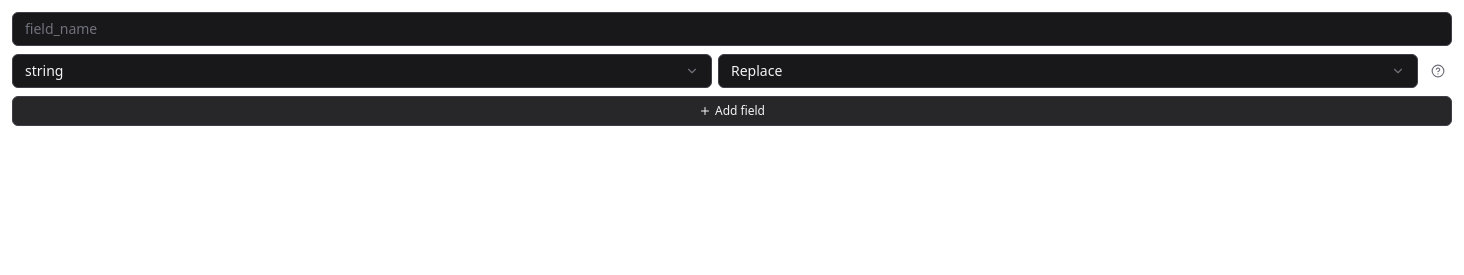
Test case: AddFieldForm smart defaults › auto-sets reducer to merge when type is object
This screenshot has width=1464, height=275.
Click the dropdown named "Field type".
click(44, 70)  # box 12,54 -> 712,88
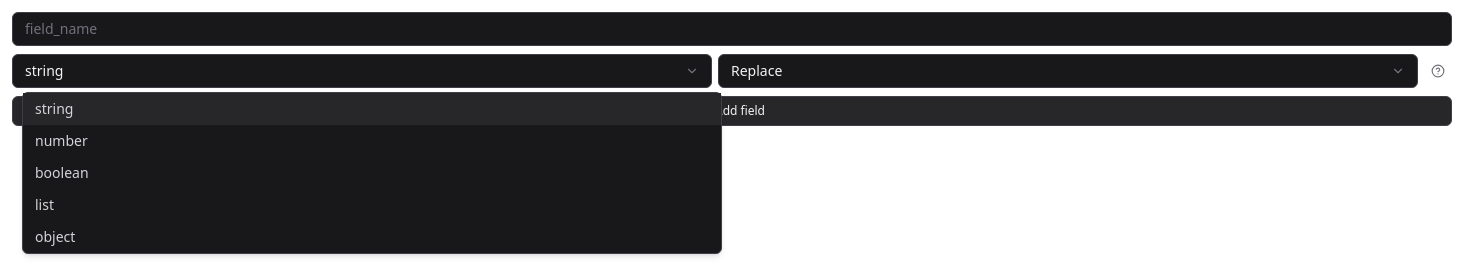
Click the option "object".
click(55, 236)  # box 35,227 -> 75,246
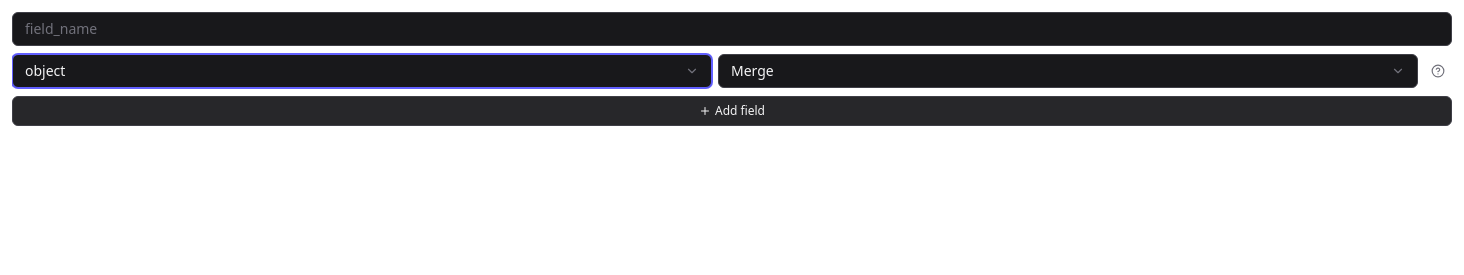
Check: the dropdown named "When updated" reads "Merge", box 718,54 -> 1418,88
